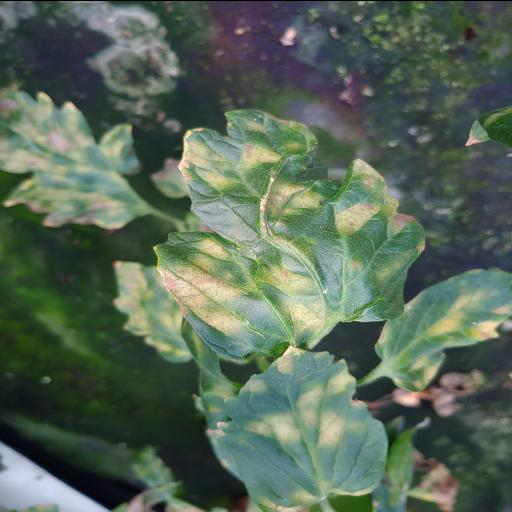Leaf Mold: (154, 108, 428, 362), (206, 344, 390, 512), (0, 88, 148, 230), (374, 267, 512, 392)
